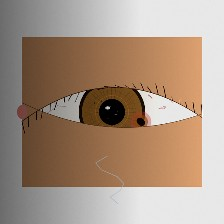foreign_body_visible: (118, 103, 164, 140)
